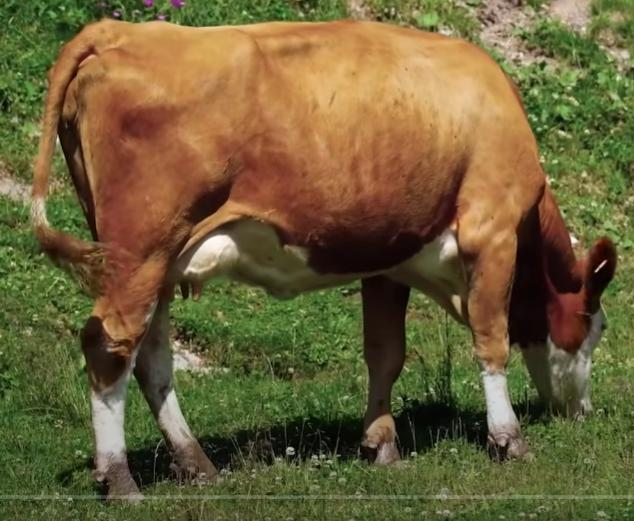cow: (60, 22, 607, 504)
